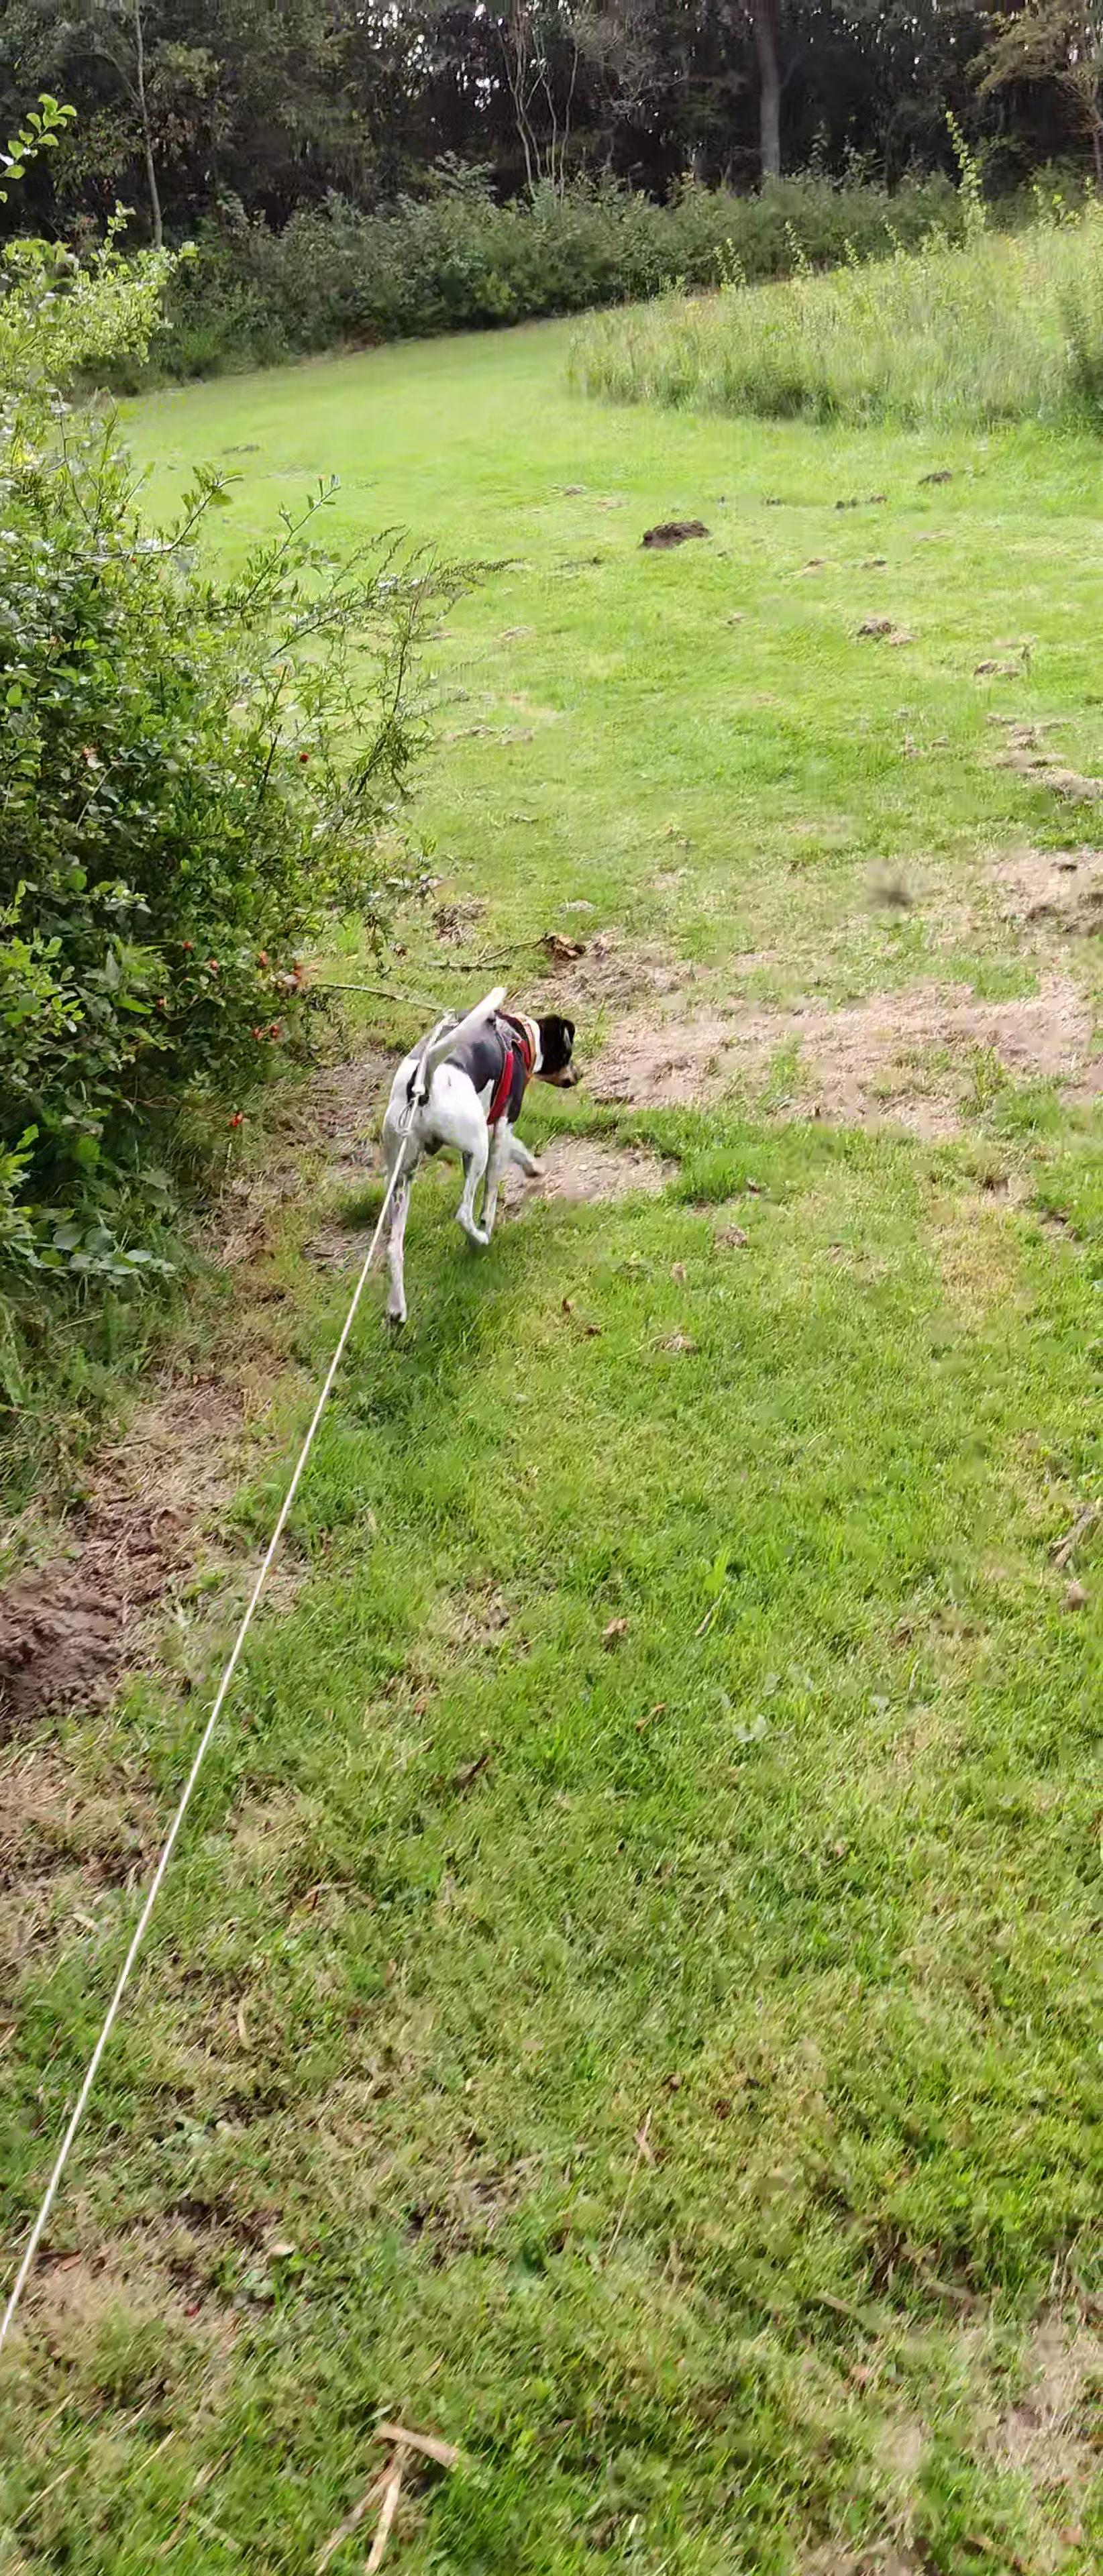Dog: (340, 936, 608, 1391)
